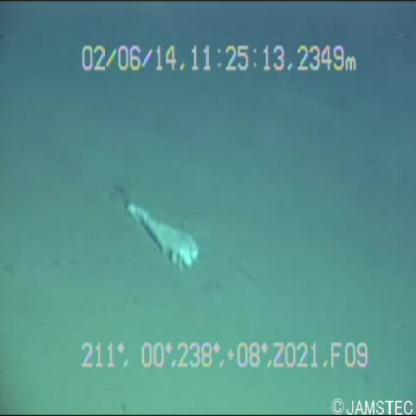Rác: (111, 189, 211, 277)
